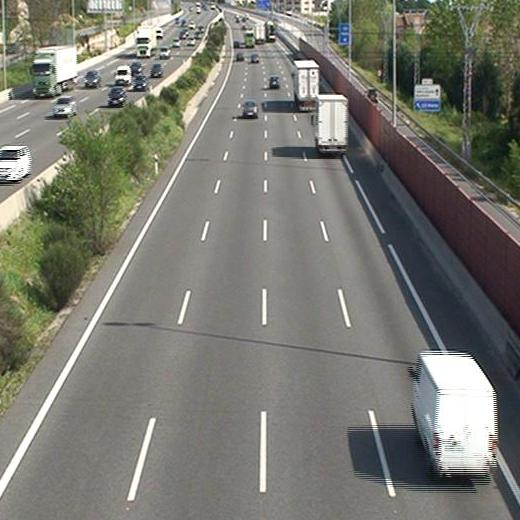car: (241, 102, 258, 117), (268, 75, 280, 88), (235, 51, 245, 61), (250, 54, 259, 63)
small-truck: (314, 94, 347, 153)
truck: (292, 59, 320, 109)
van: (412, 350, 500, 478)
